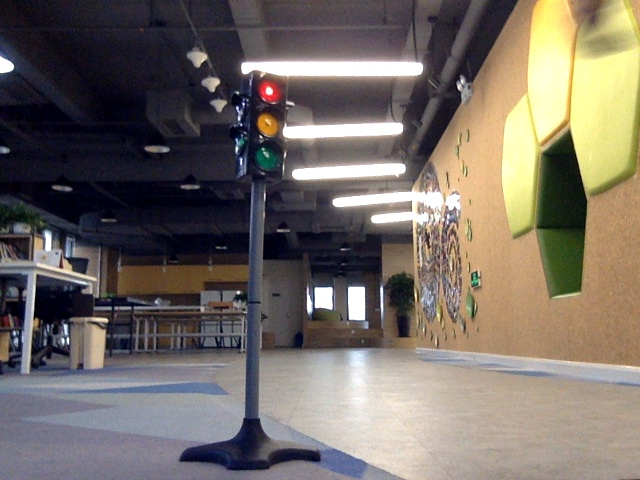red: (245, 74, 285, 175)
